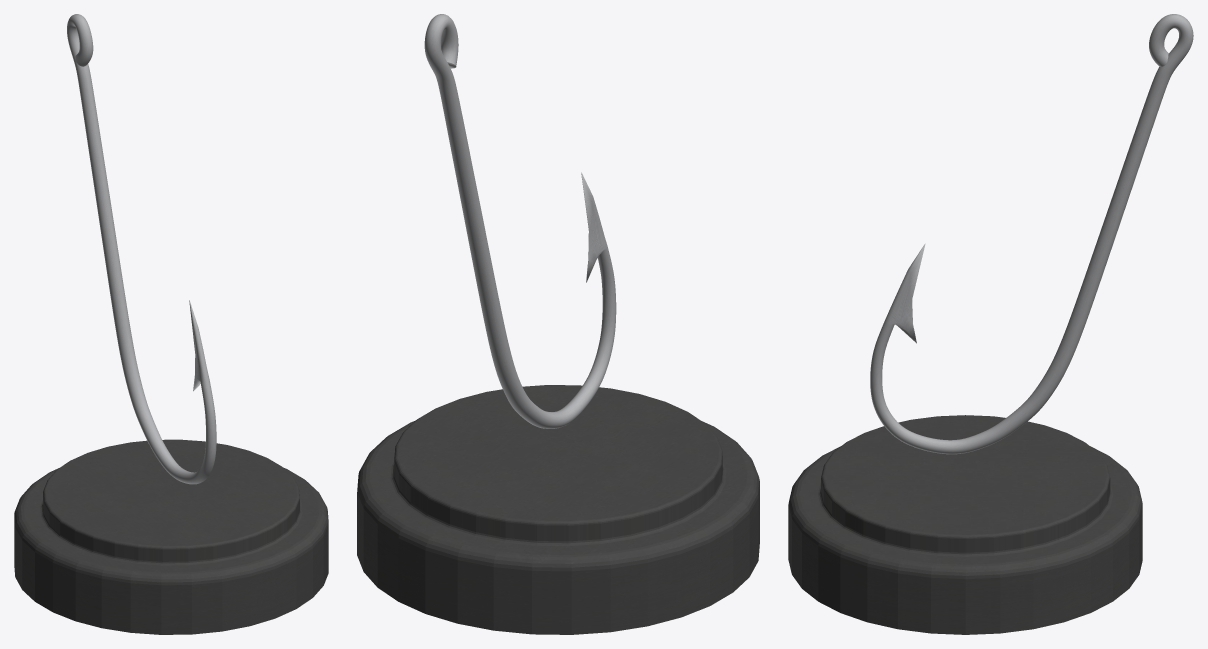
The picture shows the model from 3 angles, left to right: view 1: azimuth 30°, elevation 25°; view 2: azimuth 150°, elevation 25°; view 3: azimuth 270°, elevation 25°; orthographic projection. The views are drawn at different scales.
Parts seen in each view (by area): view 1: Cylinder, hook; view 2: Cylinder, hook; view 3: Cylinder, hook.
Part boxes in pixels (<box>): Cylinder: <box>14,439,328,634</box>; hook: <box>67,14,216,484</box>; Cylinder: <box>357,385,759,634</box>; hook: <box>424,14,616,428</box>; Cylinder: <box>788,415,1142,634</box>; hook: <box>870,14,1193,454</box>.
Size of the model in its own units: 0.4854 by 0.8246 by 0.5549.
2 materials, 2 textured.
